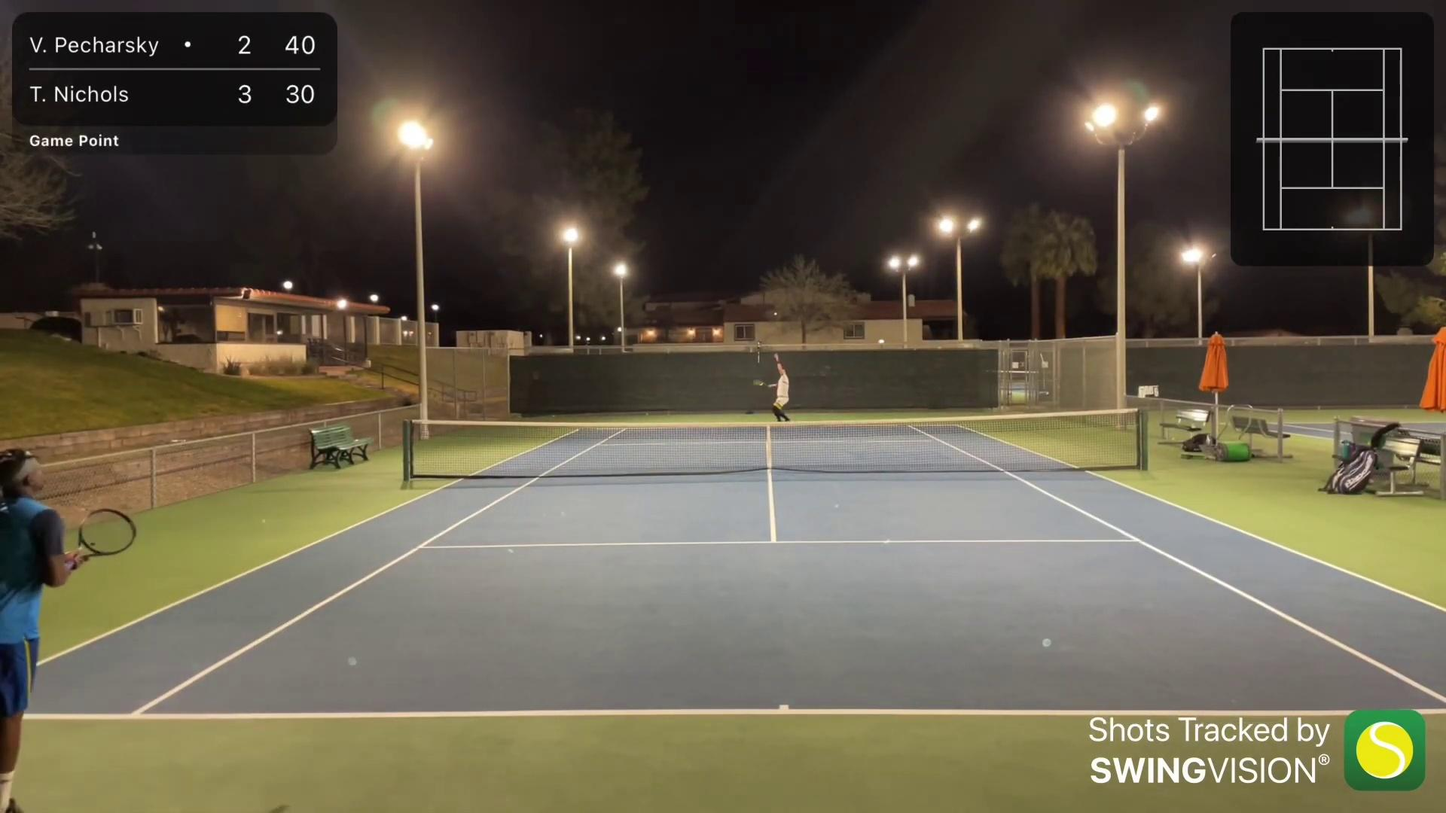ball: (773, 311, 779, 316)
